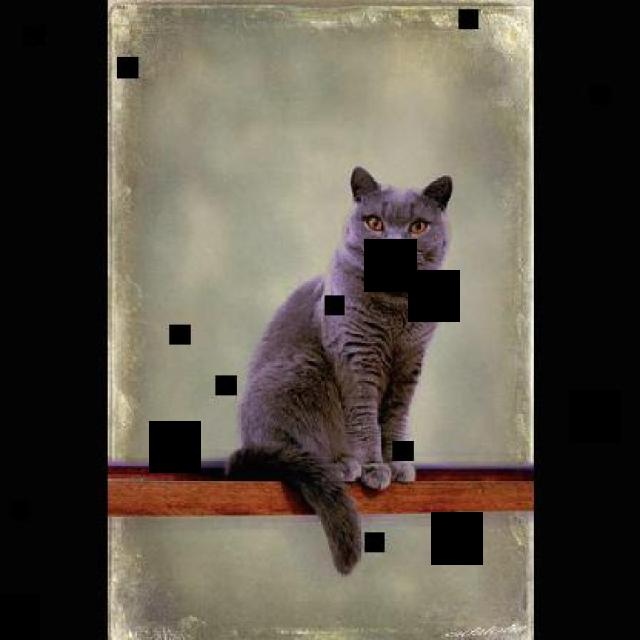unauthorized: (225, 164, 452, 576)
